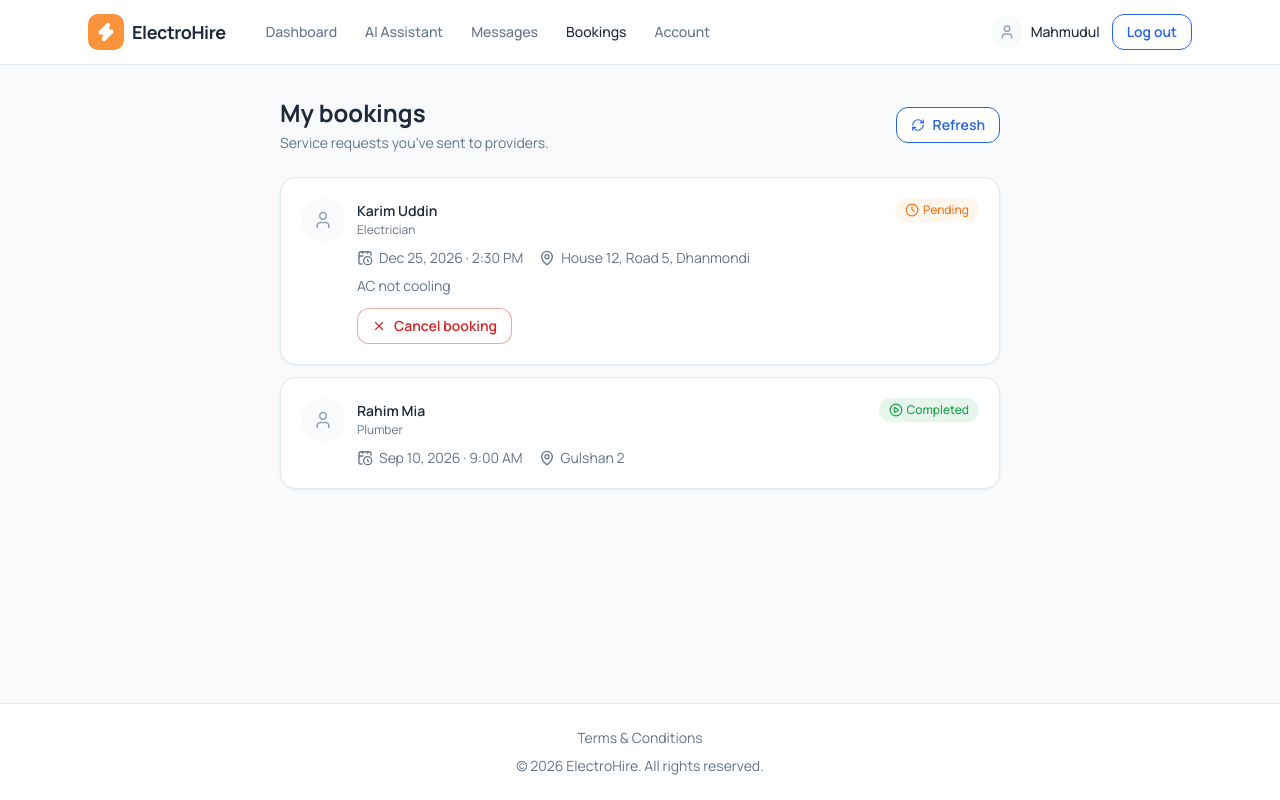
MyBookingsPage › cancels a pending booking and updates its status badge in place
This screenshot has width=1280, height=800.
Expected: the link "Karim Uddin" is shown, [357,201,437,220]
What coordinates should you click on to do the following:
click the button "Cancel booking"
I would click on:
 (435, 326)
Its box is [357,308,512,344].
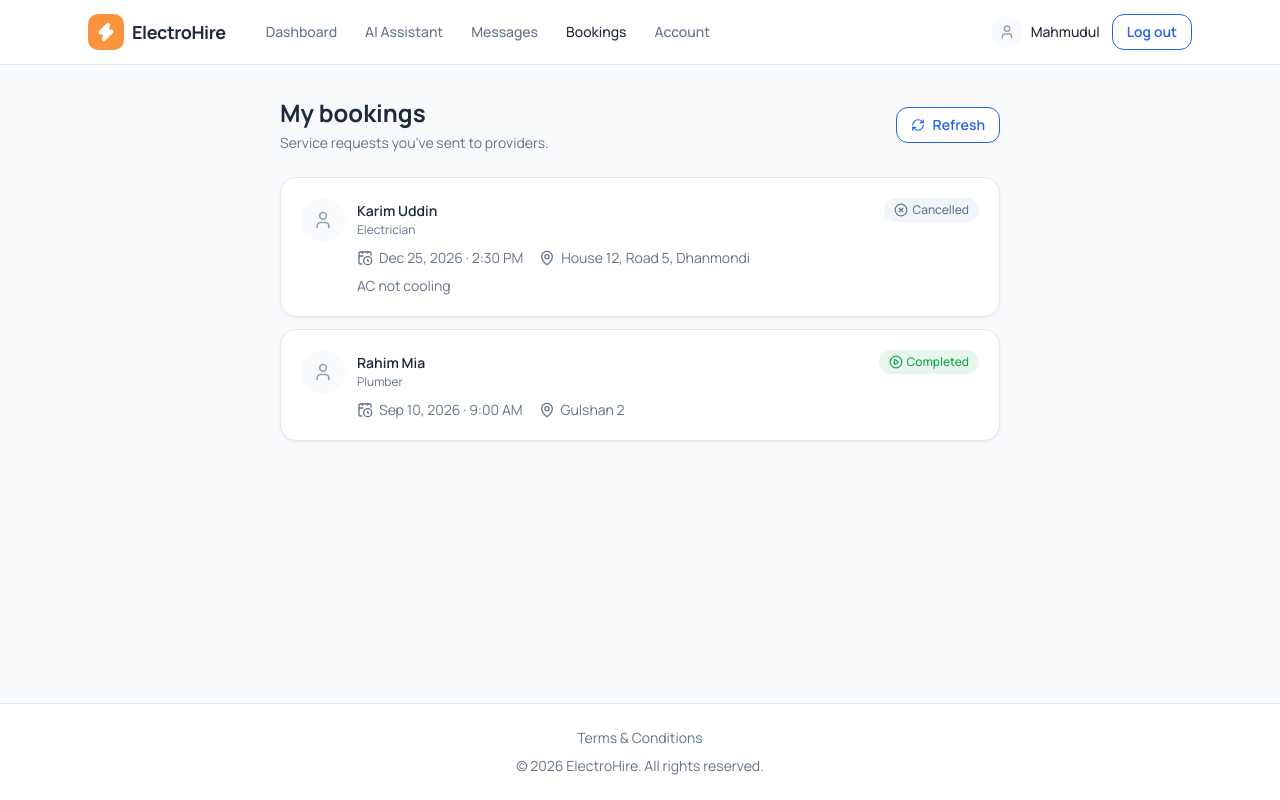
Expected: the text "Cancelled" is shown, [884,198,979,222]
Expected: the button "Cancel booking" is gone
